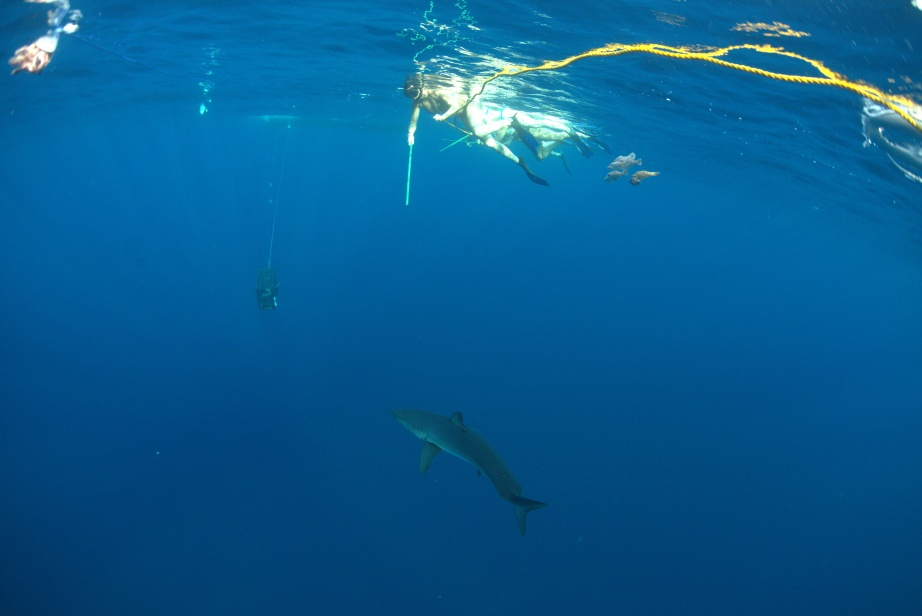Mako: (355, 395, 582, 557)
